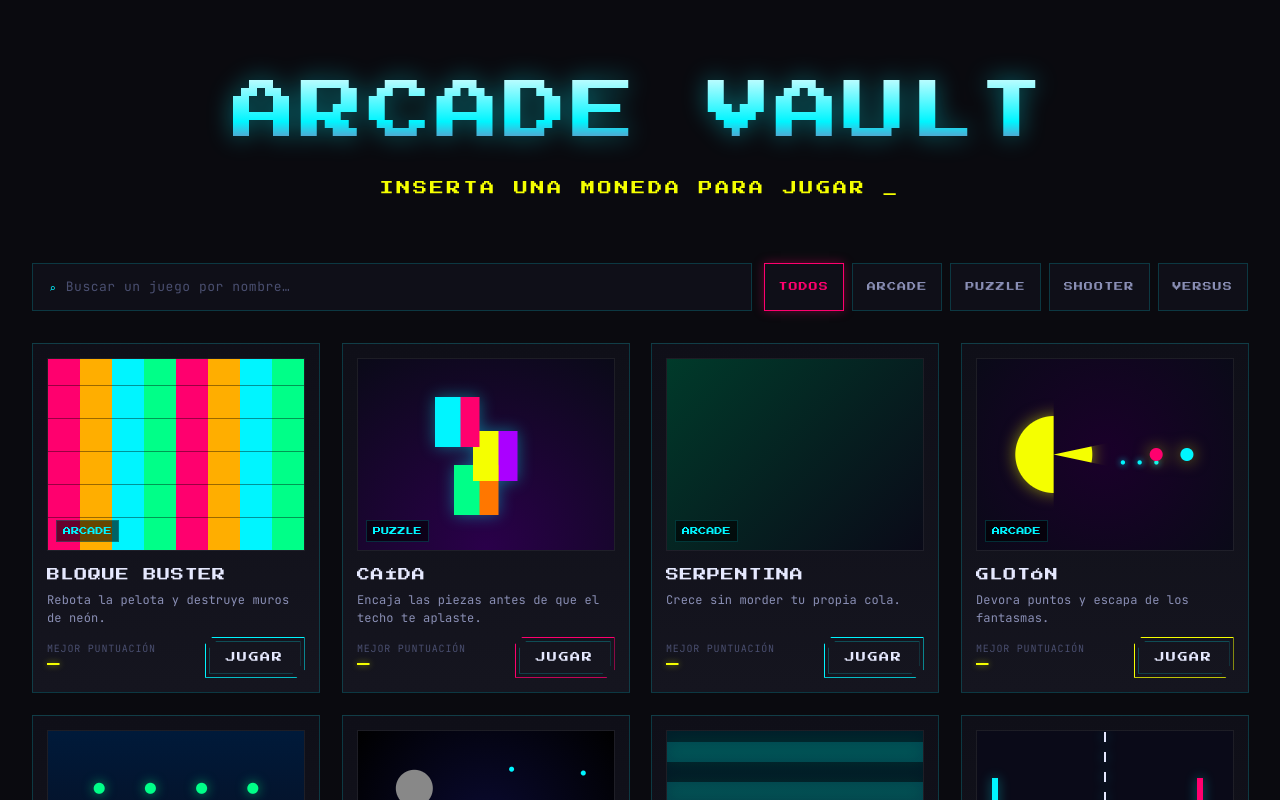
LibraryScreen › shows a no-results state when nothing matches
This screenshot has width=1280, height=800.
Type "zzz" into the field with placeholder "Buscar un juego por nombre…".
click(400, 287); type("zzz")  # box [66,277,735,297]
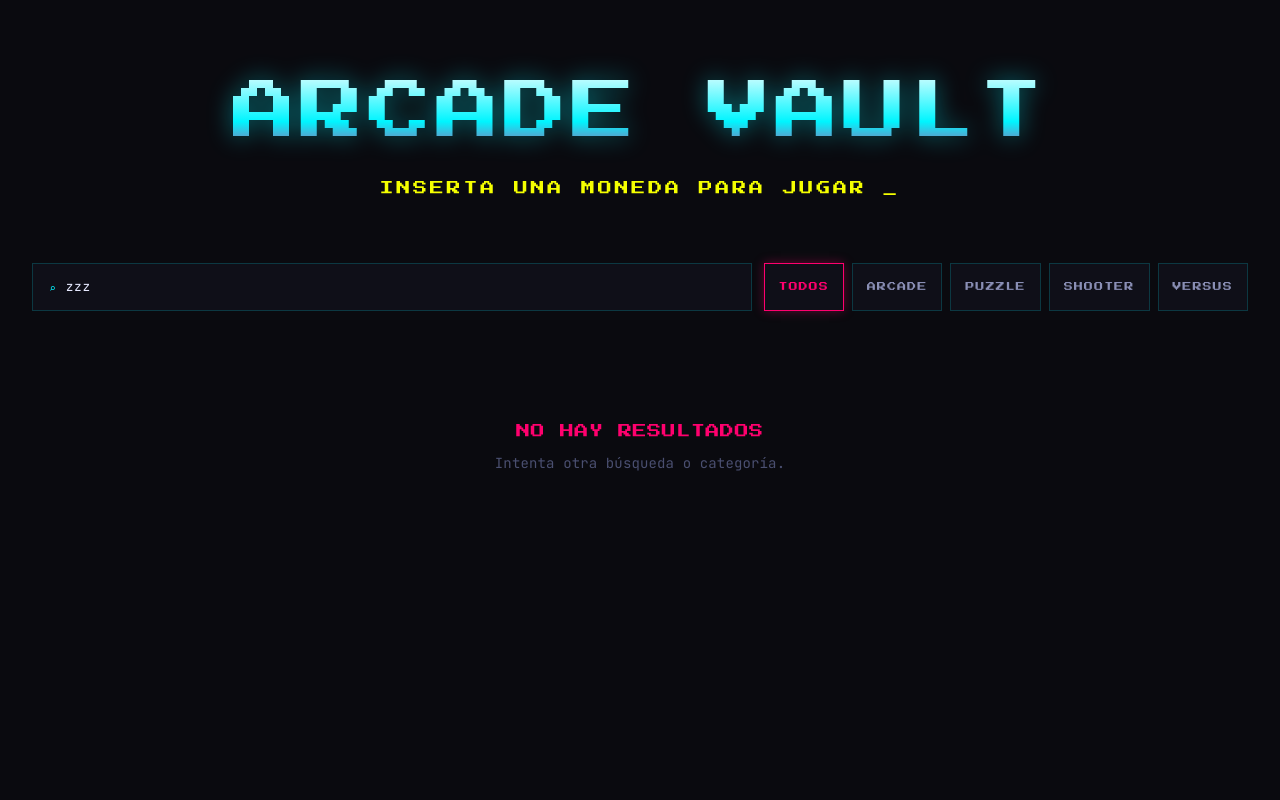
Check: the text "NO HAY RESULTADOS" is shown, box [516,424,764,438]
